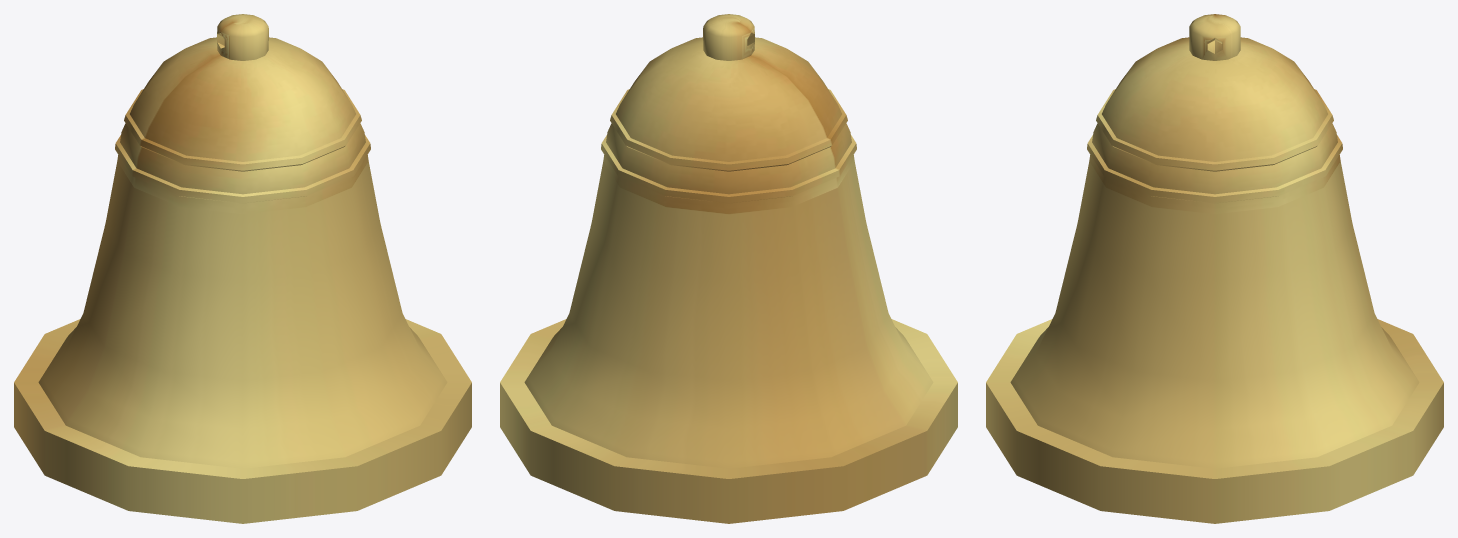
File: camp.obj
The picture shows the model from 3 angles, left to right: view 1: azimuth 30°, elevation 25°; view 2: azimuth 150°, elevation 25°; view 3: azimuth 270°, elevation 25°; orthographic projection.
Parts seen in each view (by area): view 1: Bell_Sphere.001; view 2: Bell_Sphere.001; view 3: Bell_Sphere.001.
Boxes of the visible parts, left/top/right/bottom form: Bell_Sphere.001: left=14, top=14, right=471, bottom=523; Bell_Sphere.001: left=500, top=14, right=957, bottom=523; Bell_Sphere.001: left=986, top=14, right=1443, bottom=523.
Bounding box in the file's own units: 0.3532 × 0.3461 × 0.3532.
Materials: 1 (1 with a texture image).
